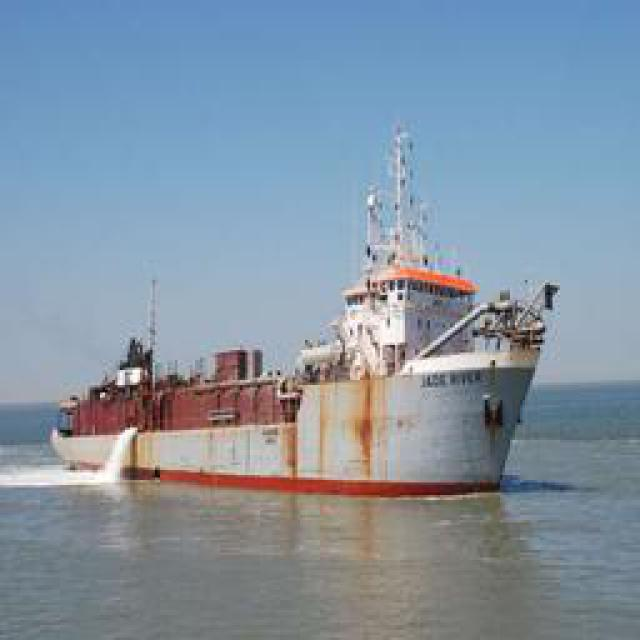Ship: (111, 109, 544, 502)
